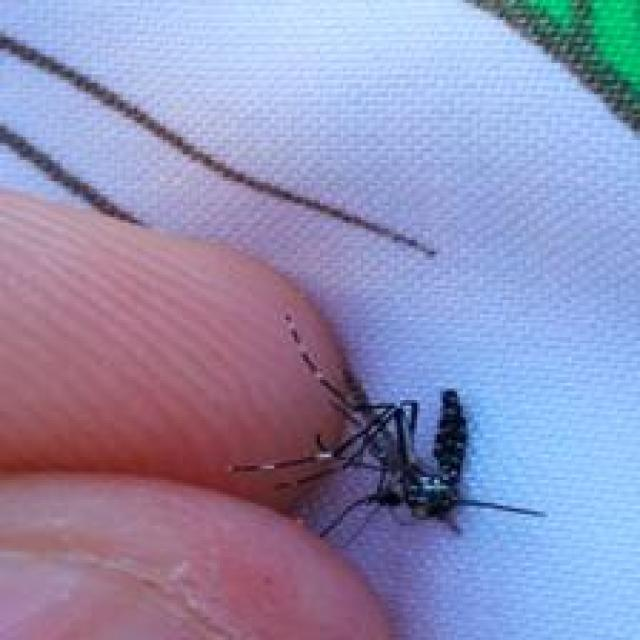Aedes albopictus: (227, 323, 547, 551)
